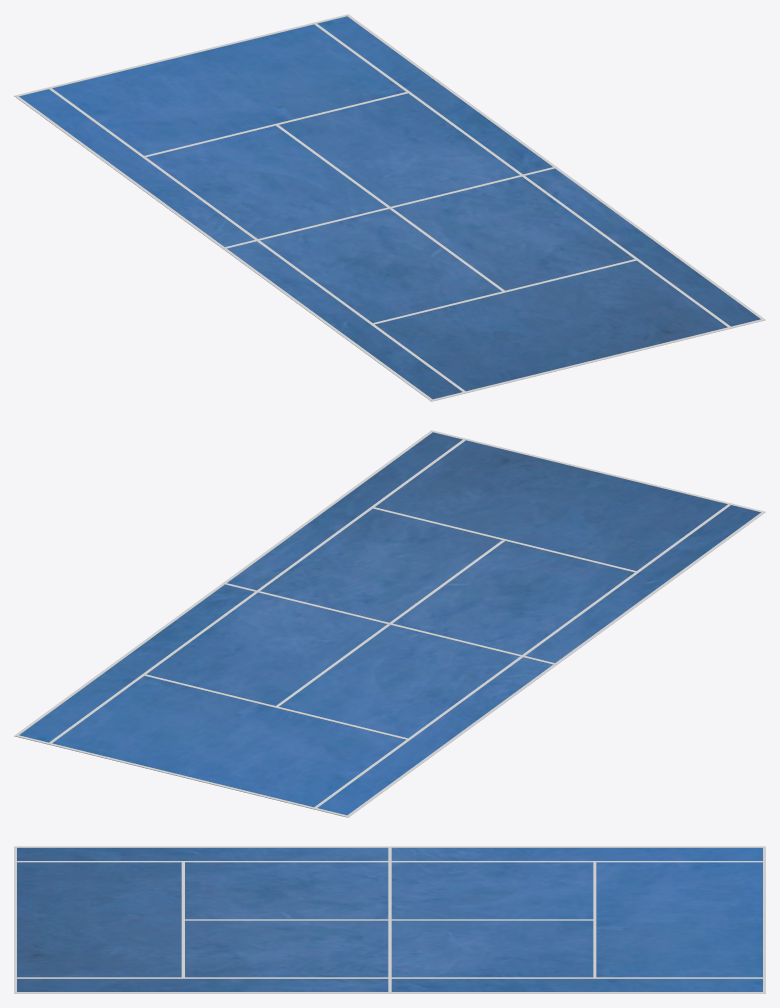
File: TennisCourt2.fbx
3 views of the same model, one above another, from view 1: azimuth 30°, elevation 25°; view 2: azimuth 150°, elevation 25°; view 3: azimuth 270°, elevation 25° (orthographic). The views are drawn at different scales.
Parts seen in each view (by area): view 1: group_pasted__pCube2; view 2: group_pasted__pCube2; view 3: group_pasted__pCube2.
Boxes of the visible parts, left/top/right/bottom form: group_pasted__pCube2: left=14, top=14, right=765, bottom=401; group_pasted__pCube2: left=14, top=430, right=765, bottom=817; group_pasted__pCube2: left=14, top=846, right=765, bottom=993.
Size of the model in its own units: 11.1 by 0.015 by 24.
Materials: 9 (1 with a texture image).
